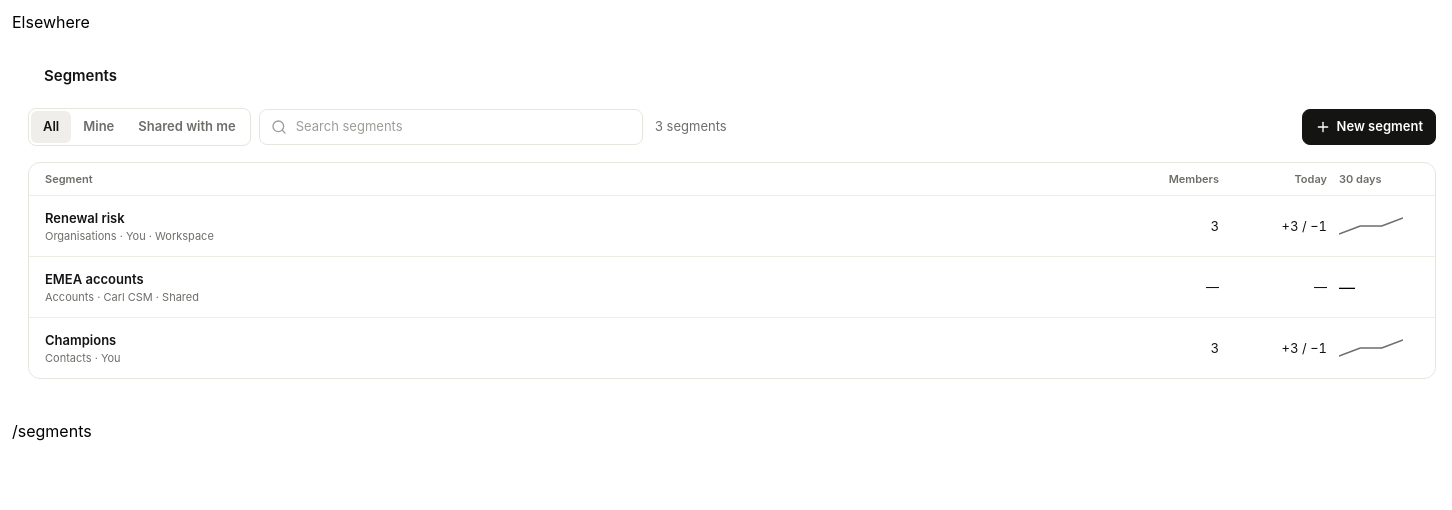
Test: /segments (spec §3) › keeps the last list when a new scope fails, with Try again that asks again
Step 1. Click the button "Mine" → (99, 127), box [71,111,126,143]
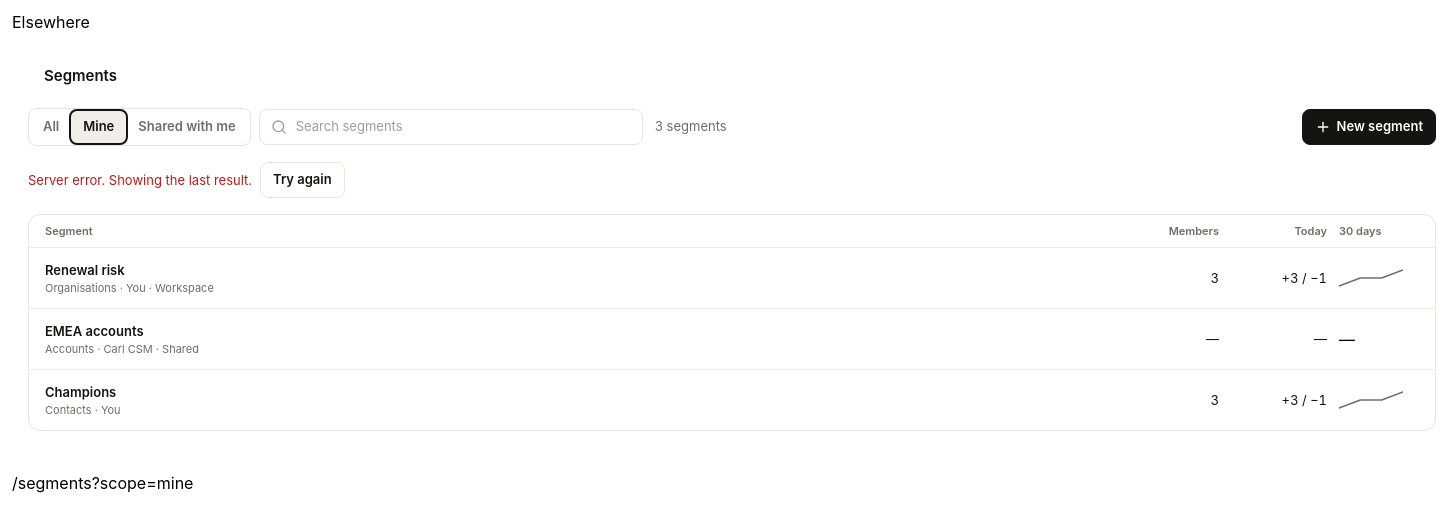
Expected: the message "Server error. Showing the last result. Try again" is shown, [28,162,345,198]
Step 2. Click the button "Try again" → (302, 180), box [260,162,345,198]
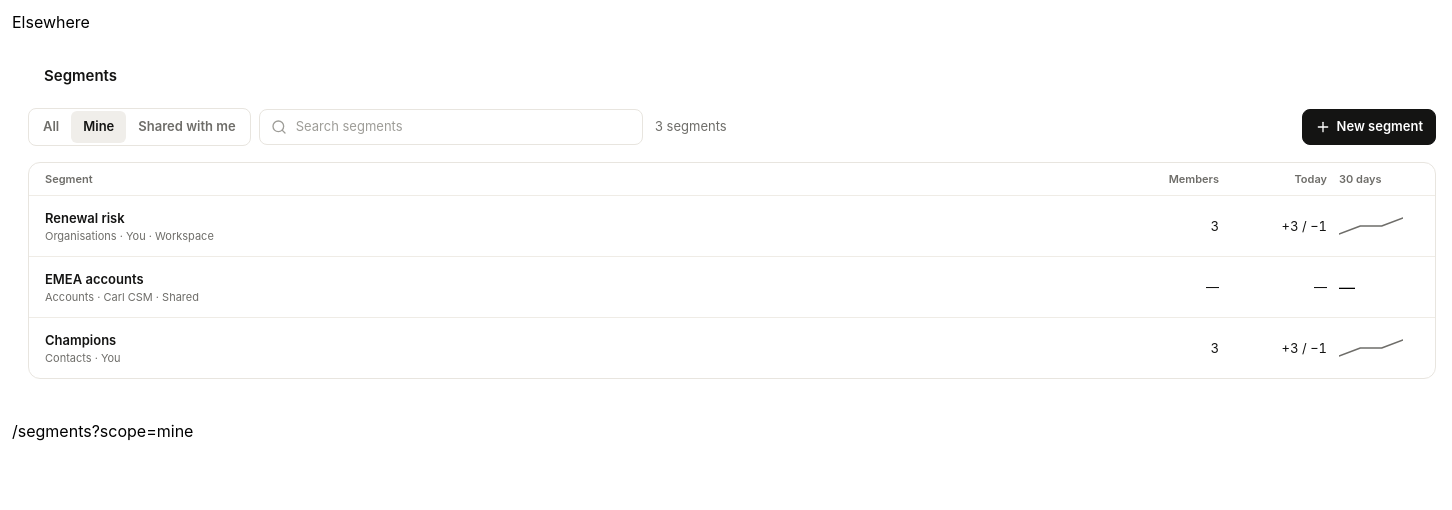
Expected: the message "Server error. Showing the last result. Try again" is gone
